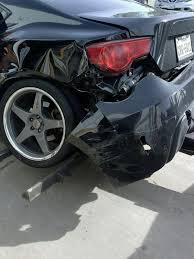Taillight-Damage: (87, 20, 166, 80)
quaterpanel-dent: (11, 20, 83, 89)
rear-bumper-dent: (86, 79, 193, 169)
